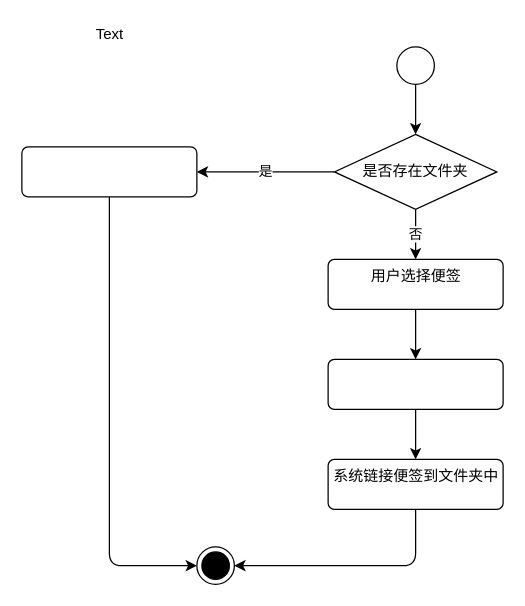
This 525x606 diagram has some shape labels left out. The centre of each missing label's shape, as x and y in pixels:
"点击放入文件夹 并选择文件夹" belongs at [415,383].
"用户键入名称 系统建立新文件夹" belongs at [109,171].
